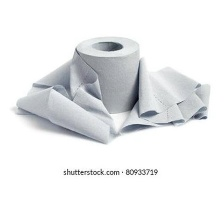tissue: (3, 29, 215, 150)
